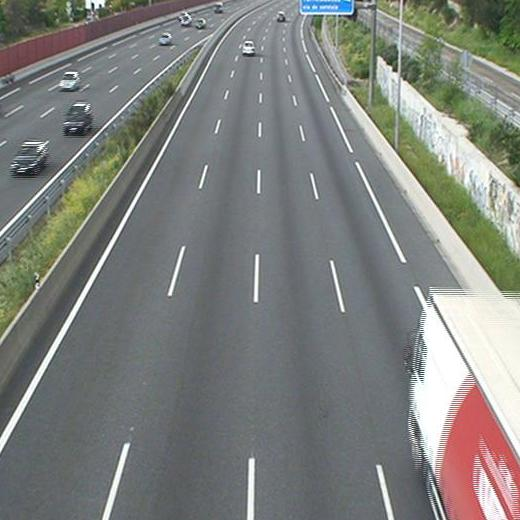car: (242, 41, 255, 53), (276, 11, 285, 21)
